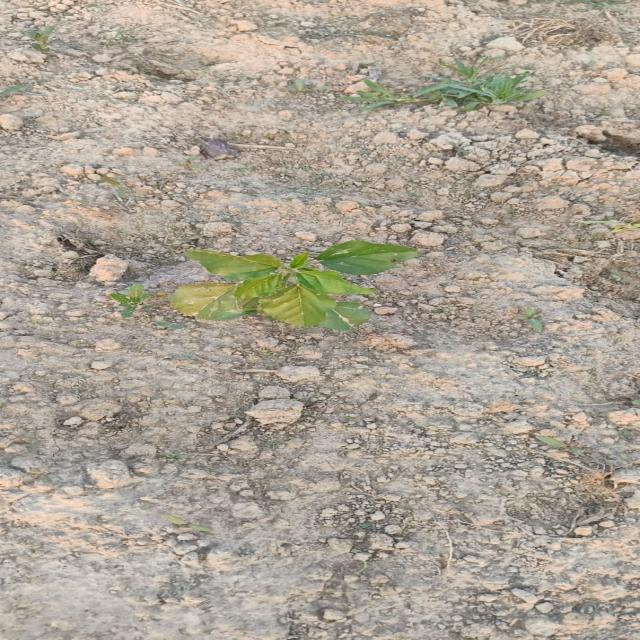plant: (171, 240, 418, 331), (109, 284, 151, 318)
